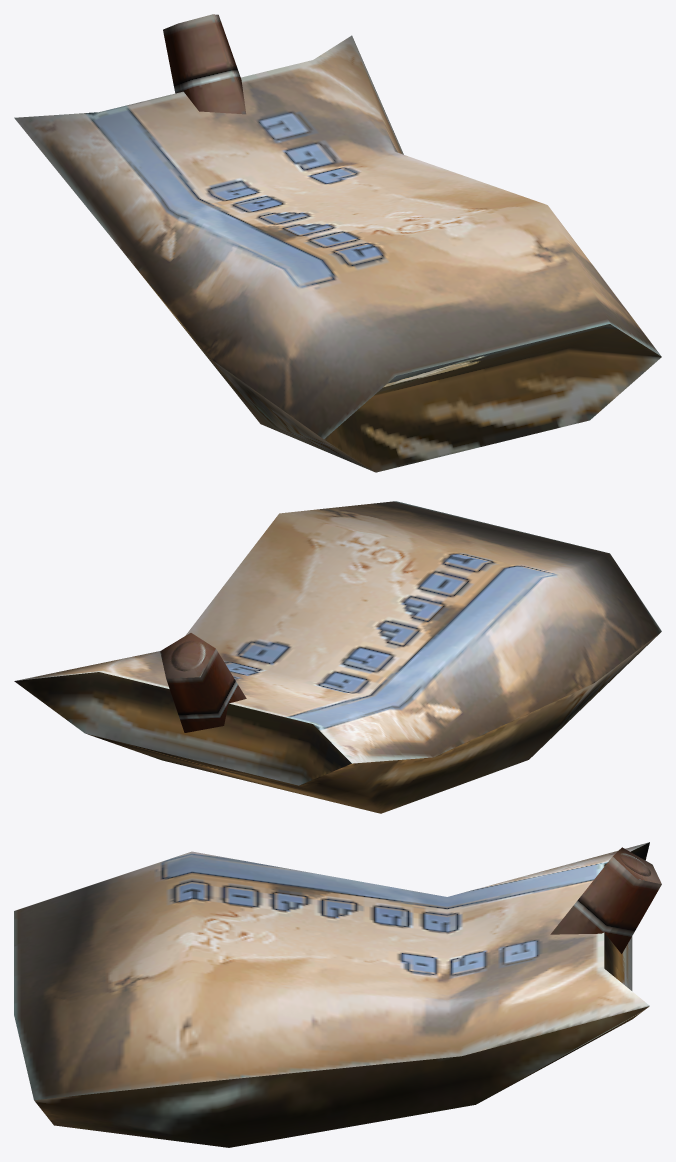
Rendered from duddal.glb.
3 renders of one model, top to bottom at view 1: azimuth 30°, elevation 25°; view 2: azimuth 150°, elevation 25°; view 3: azimuth 270°, elevation 25°, orthographic.
Parts seen in each view (by area): view 1: Box02; view 2: Box02; view 3: Box02.
Boxes of the visible parts, x1,y1,x2,y2 form: Box02: (14,14,661,472); Box02: (14,501,661,813); Box02: (14,842,661,1147).
Bounding box in the file's own units: 8.16 × 5.06 × 12.81.
Materials: 1 (1 with a texture image).
